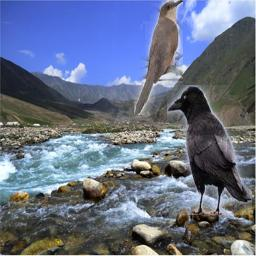Crow: (167, 85, 252, 215)
Cuckoo: (134, 0, 183, 115)
